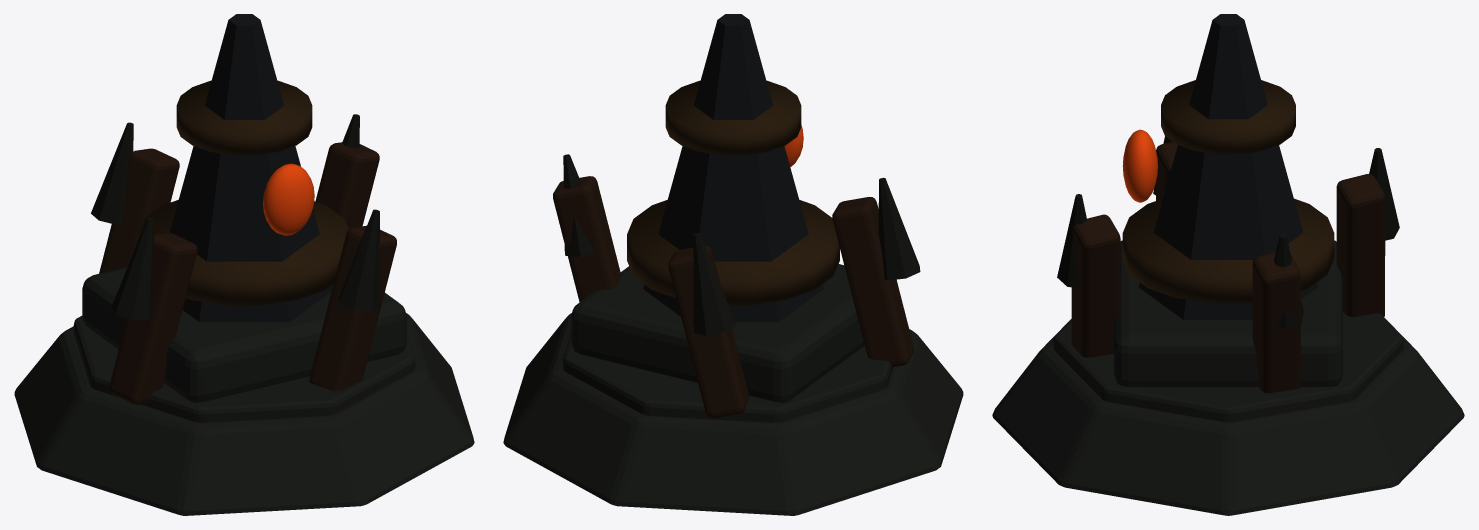
Rendered from TowerCorrupt0_pose.obj.
3 renders of one model, left to right at view 1: azimuth 30°, elevation 25°; view 2: azimuth 150°, elevation 25°; view 3: azimuth 270°, elevation 25°, orthographic.
Visible parts, largest first — view 1: weathered_stone_dais_lower_course, dark_obelisk_core, blackstone_foot, weathered_stone_dais_upper_course, bronze_binding_ring, oak_ritual_brace.002, bronze_upper_ring, oak_ritual_brace.003, oak_ritual_brace.001, oak_ritual_brace, amber_runic_heart, bone_ward_spike.002 (+2 smaller); view 2: weathered_stone_dais_lower_course, dark_obelisk_core, blackstone_foot, weathered_stone_dais_upper_course, bronze_binding_ring, oak_ritual_brace.002, bronze_upper_ring, oak_ritual_brace.001, oak_ritual_brace, bone_ward_spike.001, bone_ward_spike.002, bone_ward_spike; view 3: weathered_stone_dais_lower_course, dark_obelisk_core, blackstone_foot, weathered_stone_dais_upper_course, bronze_binding_ring, oak_ritual_brace.001, oak_ritual_brace.003, bronze_upper_ring, oak_ritual_brace, amber_runic_heart, bone_ward_spike.003, bone_ward_spike.001 (+2 smaller).
Boxes of the visible parts, left/top/right/bottom form: weathered_stone_dais_lower_course: left=14, top=313, right=474, bottom=515; dark_obelisk_core: left=169, top=14, right=333, bottom=322; blackstone_foot: left=82, top=267, right=406, bottom=402; weathered_stone_dais_upper_course: left=73, top=316, right=415, bottom=422; bronze_binding_ring: left=138, top=200, right=348, bottom=305; oak_ritual_brace.002: left=109, top=233, right=197, bottom=404; bronze_upper_ring: left=176, top=80, right=312, bottom=155; oak_ritual_brace.003: left=309, top=225, right=396, bottom=391; oak_ritual_brace.001: left=99, top=148, right=179, bottom=273; oak_ritual_brace: left=315, top=142, right=379, bottom=229; amber_runic_heart: left=263, top=163, right=314, bottom=235; bone_ward_spike.002: left=111, top=218, right=153, bottom=320; weathered_stone_dais_lower_course: left=503, top=313, right=963, bottom=515; dark_obelisk_core: left=643, top=14, right=823, bottom=322; blackstone_foot: left=571, top=264, right=864, bottom=402; weathered_stone_dais_upper_course: left=562, top=333, right=893, bottom=422; bronze_binding_ring: left=627, top=200, right=839, bottom=305; oak_ritual_brace.002: left=832, top=197, right=913, bottom=367; bronze_upper_ring: left=665, top=80, right=801, bottom=155; oak_ritual_brace.001: left=668, top=245, right=749, bottom=418; oak_ritual_brace: left=553, top=176, right=621, bottom=301; bone_ward_spike.001: left=693, top=233, right=735, bottom=335; bone_ward_spike.002: left=878, top=177, right=920, bottom=280; bone_ward_spike: left=563, top=154, right=594, bottom=256; weathered_stone_dais_lower_course: left=992, top=322, right=1464, bottom=515; dark_obelisk_core: left=1138, top=14, right=1318, bottom=319; blackstone_foot: left=1114, top=240, right=1342, bottom=386; weathered_stone_dais_upper_course: left=1053, top=311, right=1403, bottom=422; bronze_binding_ring: left=1122, top=198, right=1334, bottom=303; oak_ritual_brace.001: left=1336, top=174, right=1385, bottom=316; oak_ritual_brace.003: left=1071, top=214, right=1120, bottom=357; bronze_upper_ring: left=1161, top=80, right=1295, bottom=154; oak_ritual_brace: left=1252, top=252, right=1300, bottom=393; amber_runic_heart: left=1122, top=129, right=1157, bottom=202; bone_ward_spike.003: left=1057, top=194, right=1087, bottom=287; bone_ward_spike.001: left=1369, top=148, right=1399, bottom=240.
Size of the model in its own units: 1.61 by 1.5 by 1.61.
